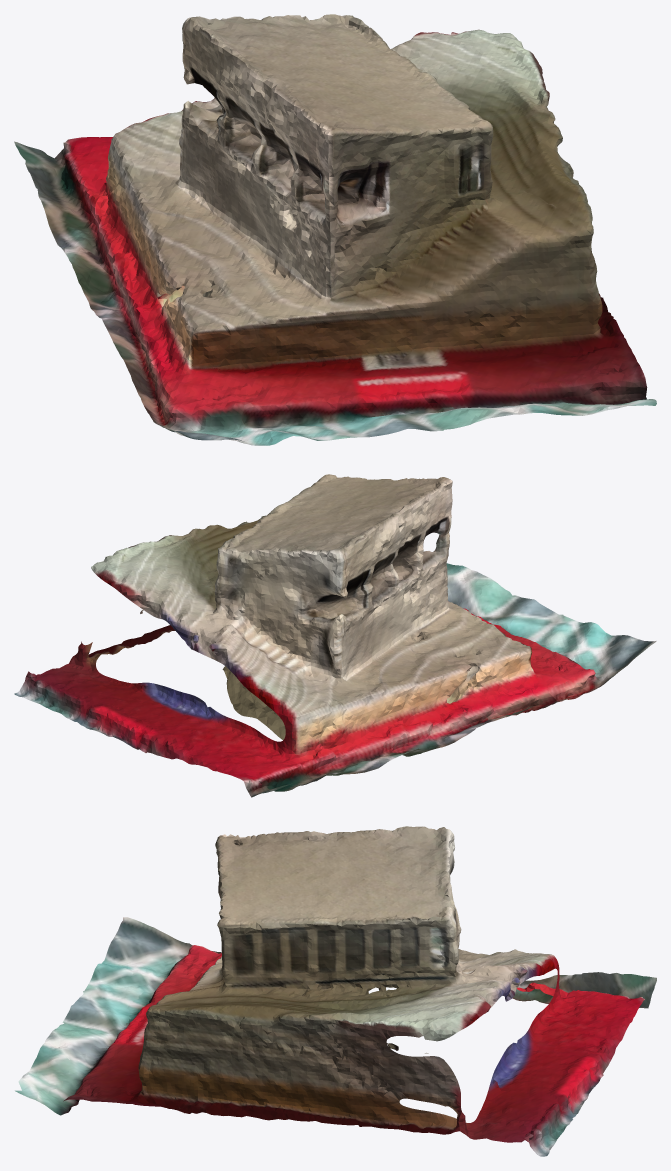
Rendered from testmodell.glb.
3 views of the same model, one above another, from view 1: azimuth 30°, elevation 25°; view 2: azimuth 150°, elevation 25°; view 3: azimuth 270°, elevation 25° (orthographic). The views are drawn at different scales.
Bounding box in the file's own units: 0.3337 × 0.1746 × 0.4017.
Materials: 1 (1 with a texture image).
